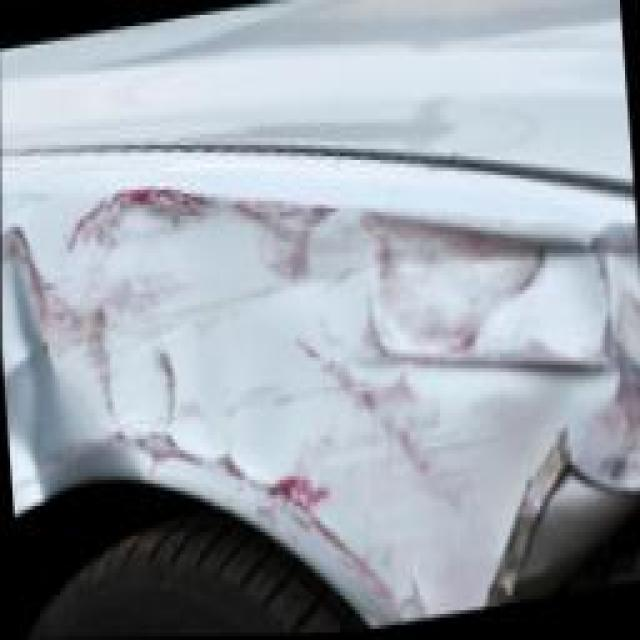Fender: (0, 130, 639, 632)
